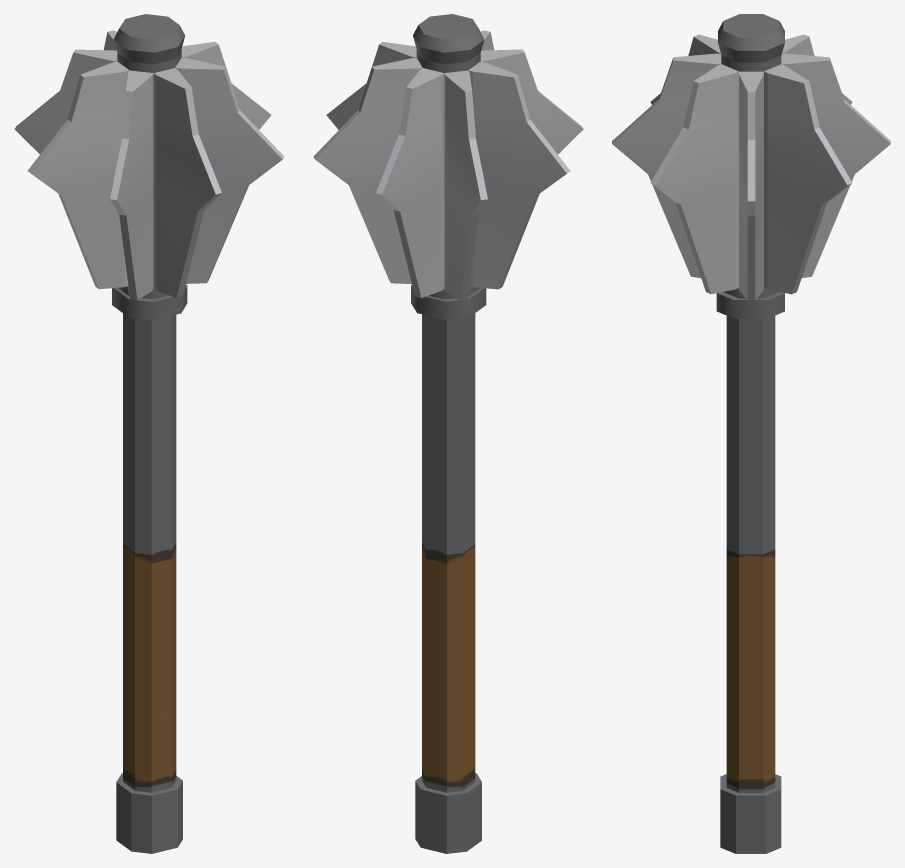
The model's file is FlangedMace.fbx.
3 renders of one model, left to right at view 1: azimuth 30°, elevation 25°; view 2: azimuth 150°, elevation 25°; view 3: azimuth 270°, elevation 25°, orthographic.
Parts seen in each view (by area): view 1: FlangedMace; view 2: FlangedMace; view 3: FlangedMace.
Part boxes in pixels (x1,y1,x2,y2): FlangedMace: [14, 14, 284, 853]; FlangedMace: [313, 14, 583, 853]; FlangedMace: [612, 14, 890, 853].
Size of the model in its own units: 16.16 by 52.17 by 16.16.
